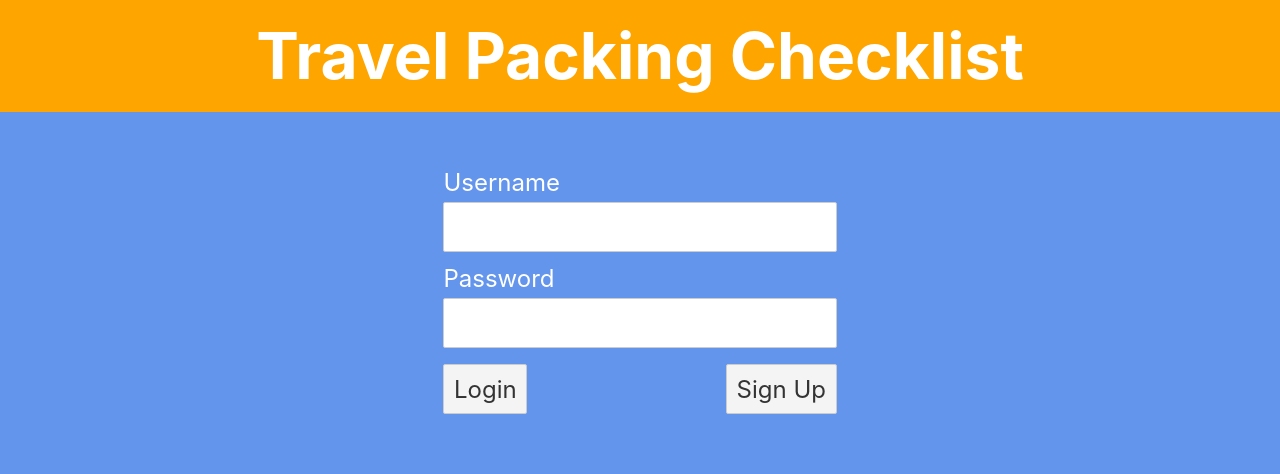
Scenario: Travel Packing app › should logout
Type "asdf" into the field labelled "Username" at {"x": 640, "y": 227}, box left=443, top=202, right=836, bottom=252
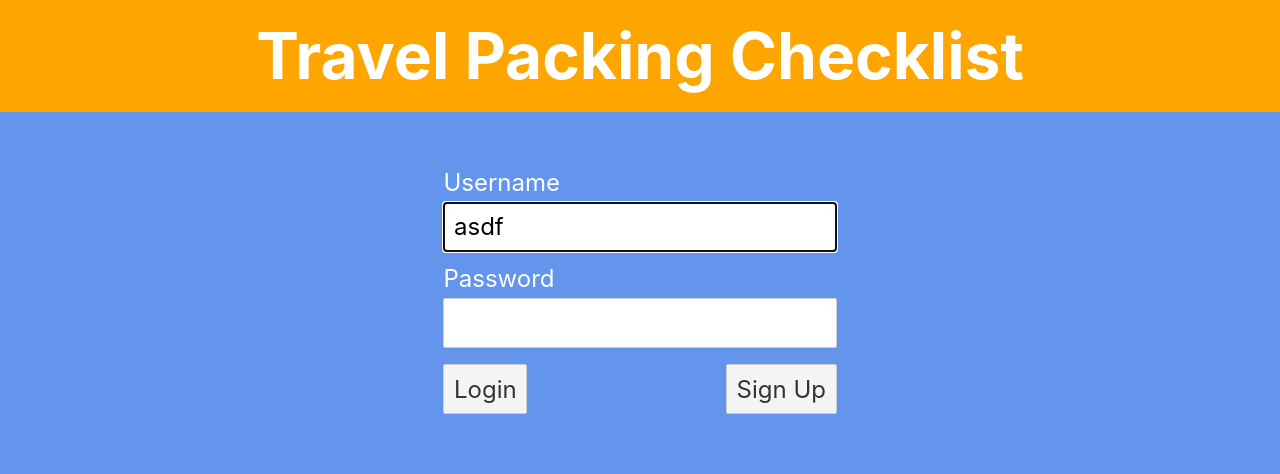
Type "asdf" into the password field labelled "Password" at {"x": 640, "y": 323}, box left=443, top=298, right=836, bottom=348
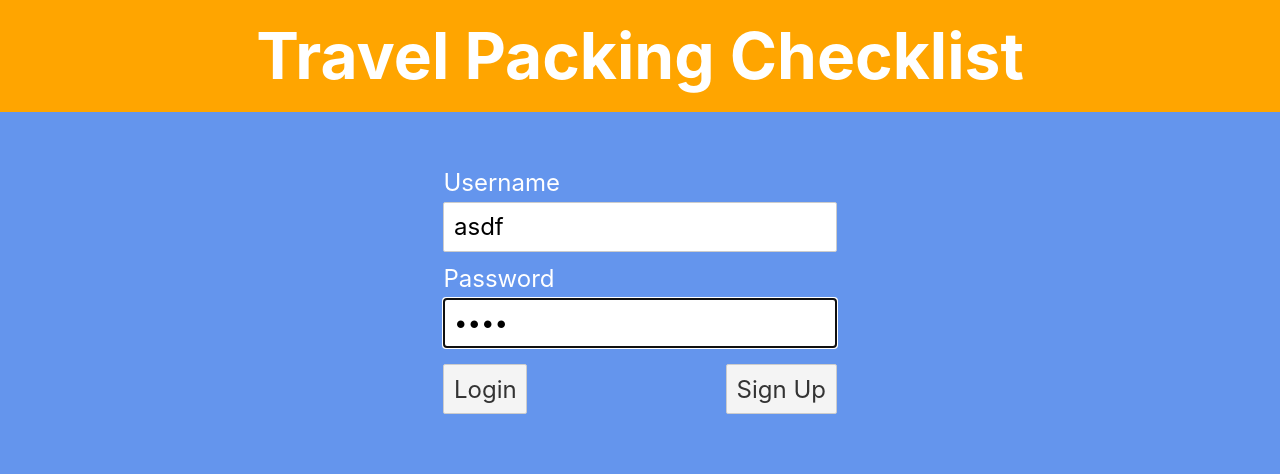
Click the button "Login" at {"x": 485, "y": 389}, box left=443, top=364, right=527, bottom=414
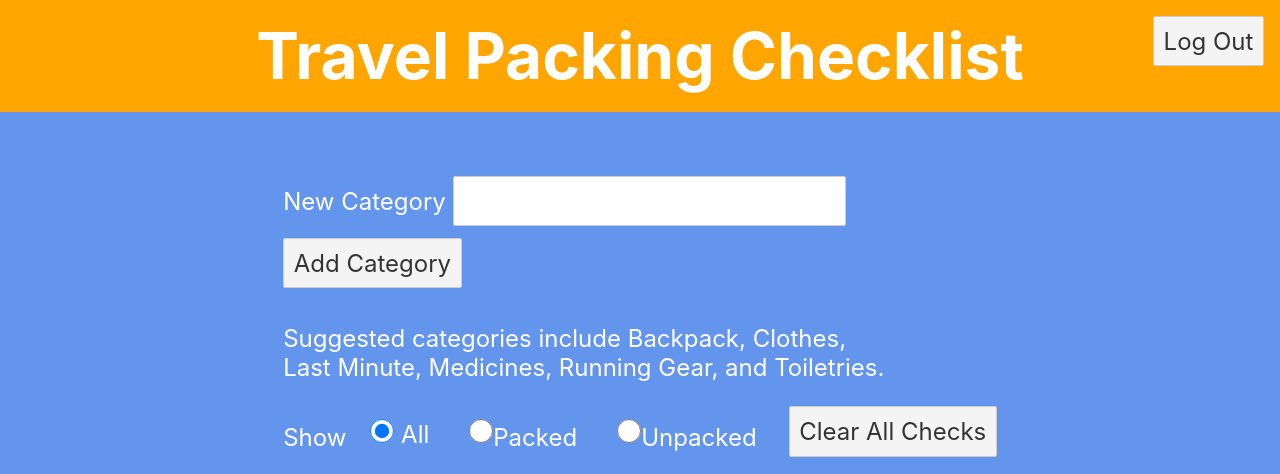
Click the button "Log Out" at {"x": 1209, "y": 41}, box left=1153, top=16, right=1264, bottom=66
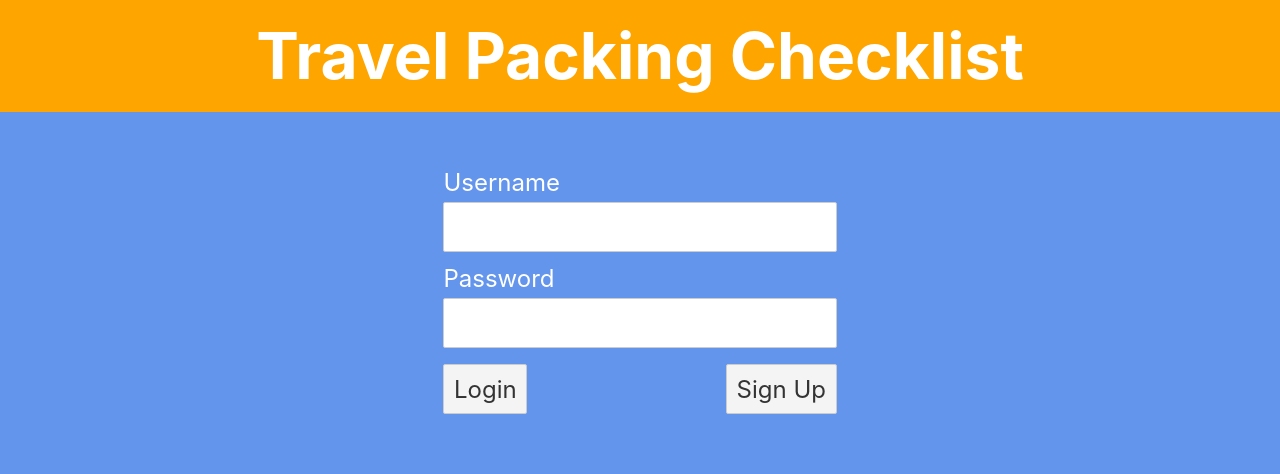
Now the button "Login" is shown, box left=443, top=364, right=527, bottom=414
